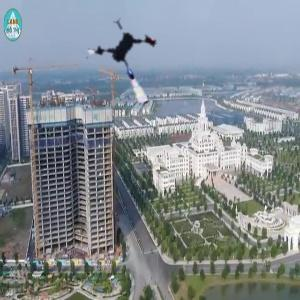drone: (89, 11, 184, 106)
